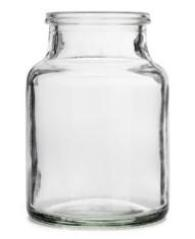glass: (25, 11, 172, 231)
